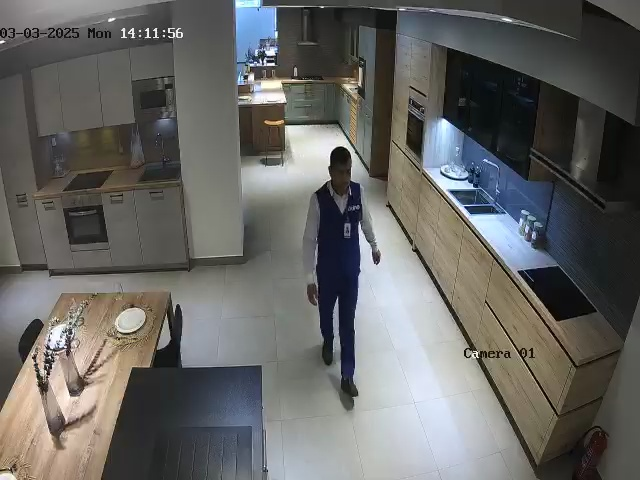employee: (302, 146, 382, 398)
